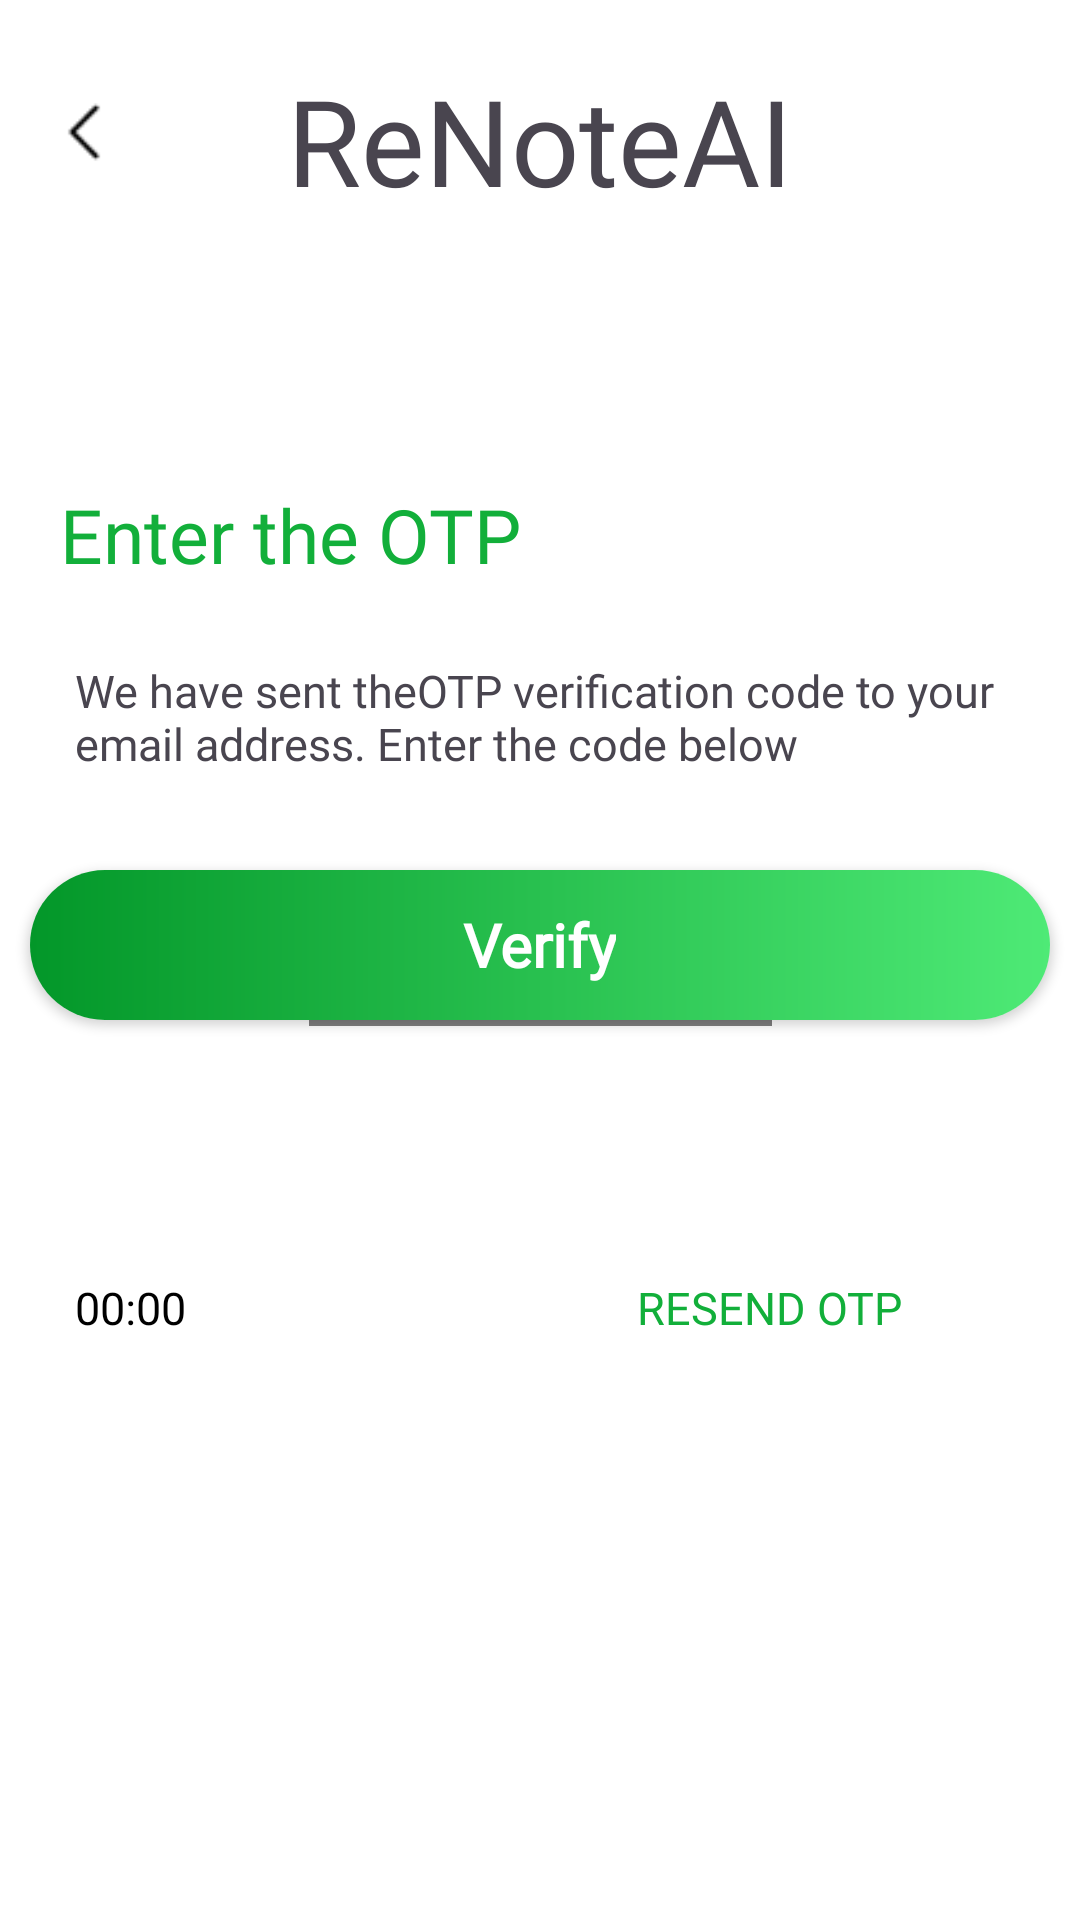

Locate icon controls on the screen. Image size 1080px×1920px, boxes as (x1, y1, x2, y2).
back: (68, 104, 100, 160)
